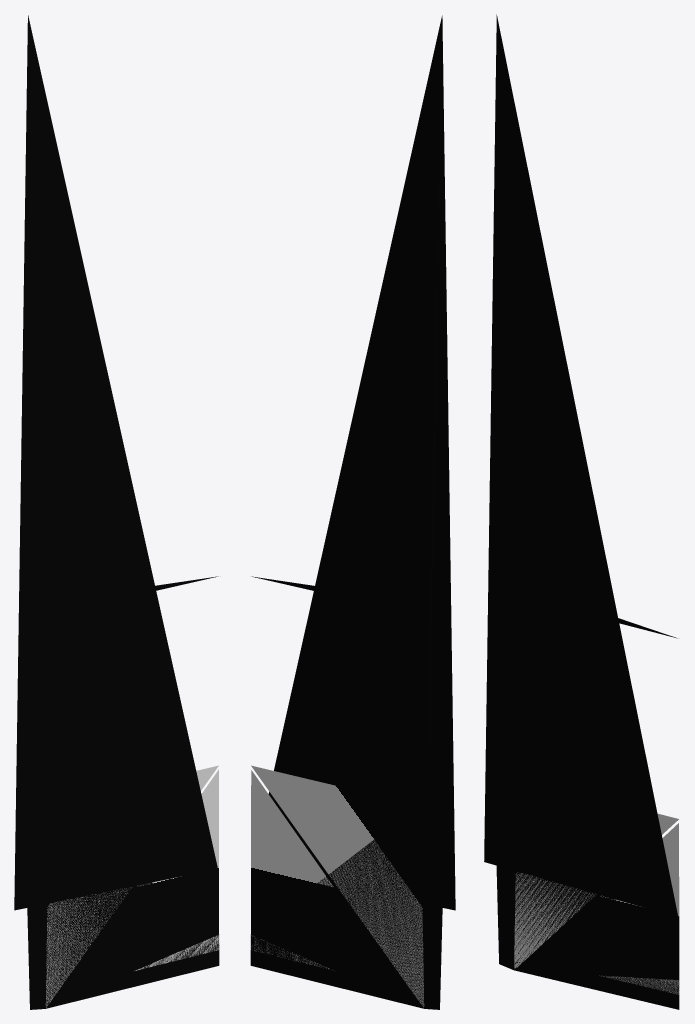
File: assets09_model_147.obj
The picture shows the model from 3 angles, left to right: view 1: azimuth 30°, elevation 25°; view 2: azimuth 150°, elevation 25°; view 3: azimuth 330°, elevation 25°; orthographic projection. The views are drawn at different scales.
Visible parts, largest first — view 1: assets09_model_147; view 2: assets09_model_147; view 3: assets09_model_147.
Boxes of the visible parts, box(x1,y1,x2,y2) form: assets09_model_147: box(14, 15, 219, 1009); assets09_model_147: box(250, 15, 455, 1009); assets09_model_147: box(484, 14, 679, 1009).
Bounding box in the file's own units: 5.52 × 25.54 × 0.01.
1 material, 1 textured.
